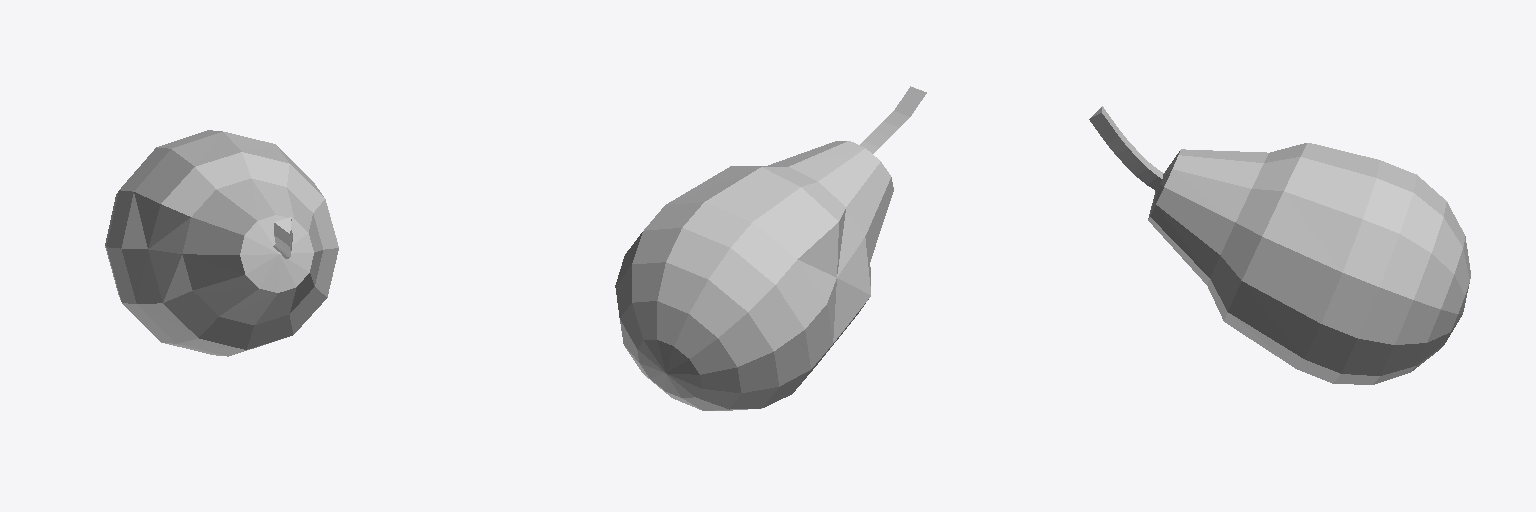
Rendered from grusha.obj.
3 renders of one model, left to right at view 1: azimuth 30°, elevation 25°; view 2: azimuth 150°, elevation 25°; view 3: azimuth 270°, elevation 25°, orthographic.
Parts seen in each view (by area): view 1: mesh_[number redacted], mesh_[number redacted]; view 2: mesh_[number redacted], mesh_[number redacted]; view 3: mesh_[number redacted], mesh_[number redacted].
Boxes of the visible parts, x1=… form: mesh_[number redacted]: x1=105, y1=130, x2=338, y2=356; mesh_[number redacted]: x1=273, y1=217, x2=292, y2=258; mesh_[number redacted]: x1=615, y1=141, x2=893, y2=410; mesh_[number redacted]: x1=860, y1=86, x2=926, y2=153; mesh_[number redacted]: x1=1148, y1=143, x2=1470, y2=384; mesh_[number redacted]: x1=1089, y1=106, x2=1163, y2=190.
Size of the model in its own units: 0.39 by 0.4455 by 0.6572.